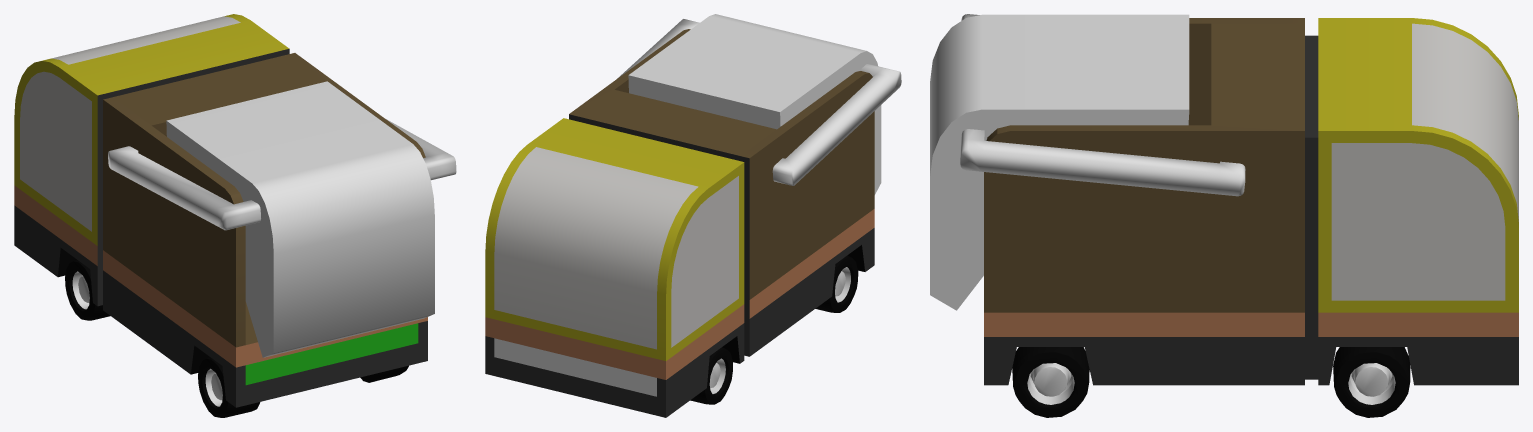
File: SM_GarbageTrack_Yellow.fbx
3 renders of one model, left to right at view 1: azimuth 30°, elevation 25°; view 2: azimuth 150°, elevation 25°; view 3: azimuth 270°, elevation 25°, orthographic. The views are drawn at different scales.
Visible parts, largest first — view 1: BodyYellow, Rear, WheelsRear, Wheels.Front; view 2: BodyYellow, Rear, Wheels.Front, WheelsRear; view 3: BodyYellow, Rear, Wheels.Front, WheelsRear.
Part boxes in pixels (left/top/right/bottom): BodyYellow: left=14, top=14, right=427, bottom=407; Rear: left=108, top=81, right=456, bottom=357; WheelsRear: left=198, top=357, right=408, bottom=417; Wheels.Front: left=65, top=259, right=110, bottom=320; BodyYellow: left=485, top=29, right=874, bottom=417; Rear: left=617, top=14, right=901, bottom=194; Wheels.Front: left=690, top=347, right=732, bottom=404; WheelsRear: left=815, top=255, right=858, bottom=312; BodyYellow: left=984, top=18, right=1518, bottom=385; Rear: left=930, top=14, right=1245, bottom=310; Wheels.Front: left=1333, top=347, right=1410, bottom=417; WheelsRear: left=1012, top=347, right=1089, bottom=417.
Bounding box in the file's own units: 241 × 251 × 440.
